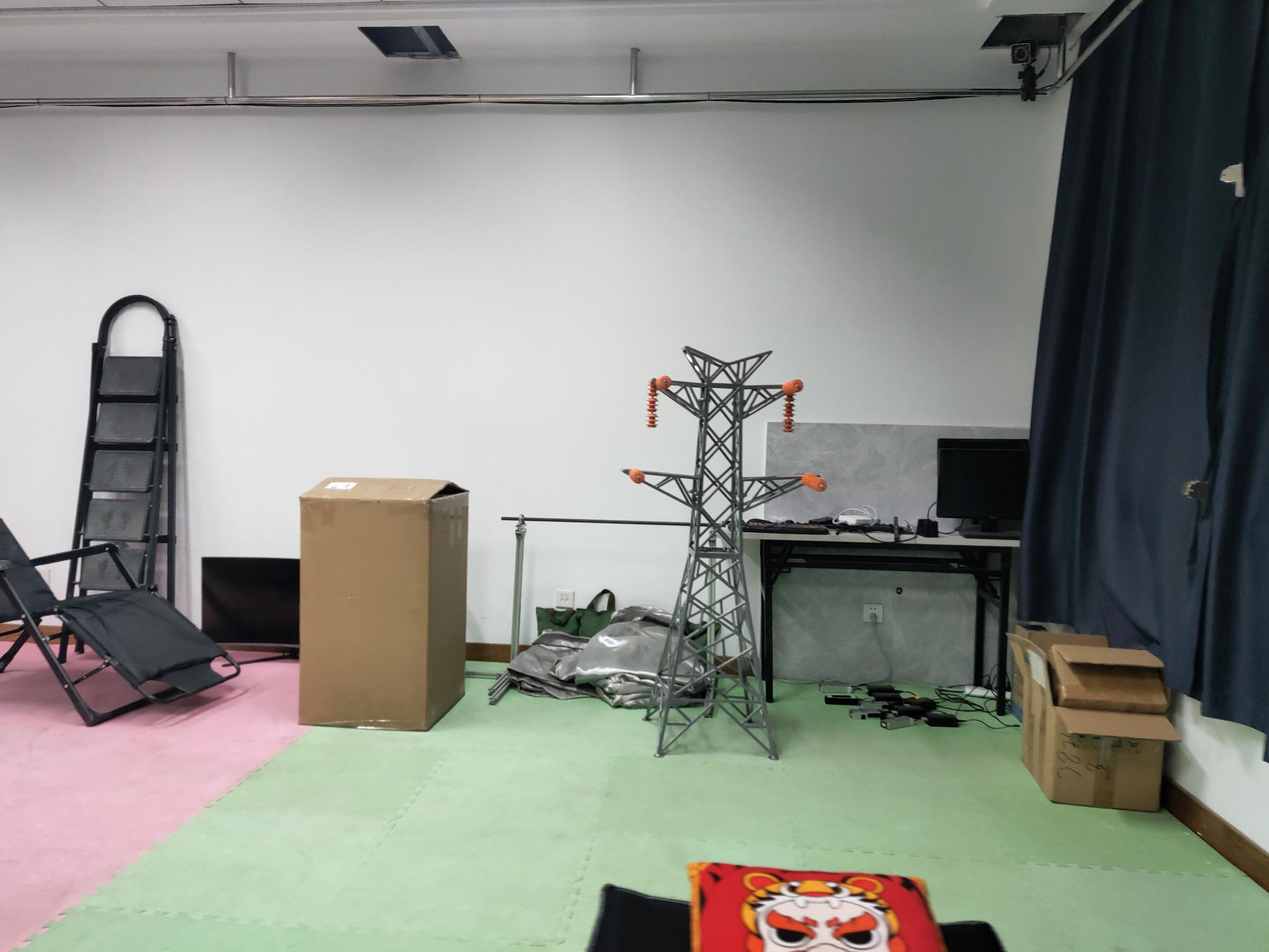tower: (623, 347, 794, 761)
